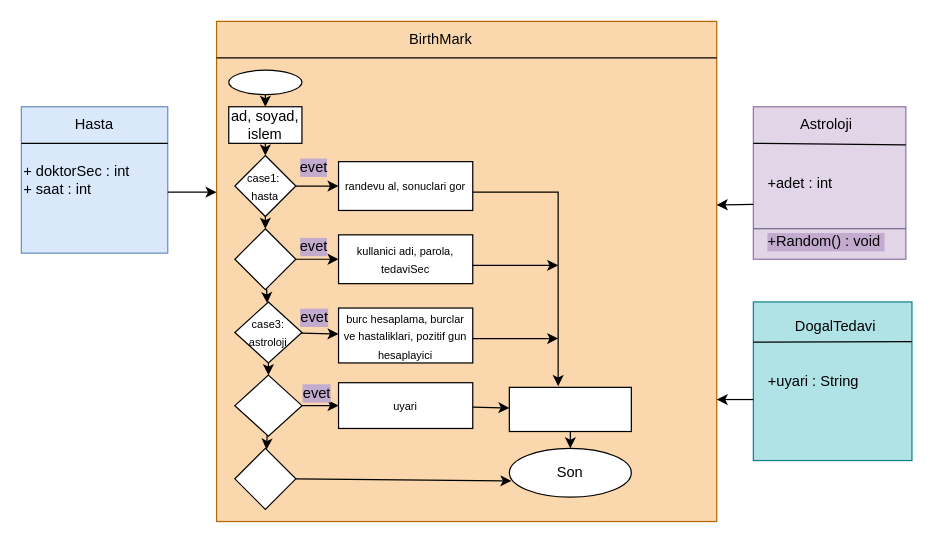
The diagram is 935 pixels wide and 543 high, and some of its shapes have lost their labels. The box of each missing label's shape, as (x1, y1, x2, y2) in pixels:
Başla: (228, 69, 302, 95)
break: (508, 386, 631, 432)
case2: doktor: (234, 228, 296, 290)
case4: dogal Tedavi: (234, 374, 302, 436)
default: (234, 447, 296, 509)
